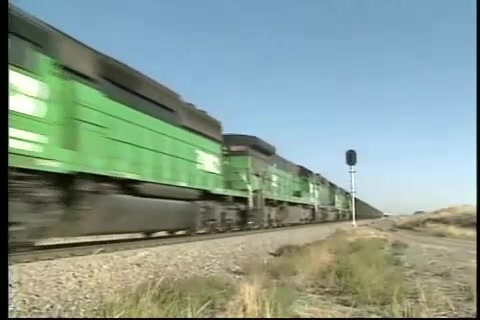train: (10, 1, 384, 252)
